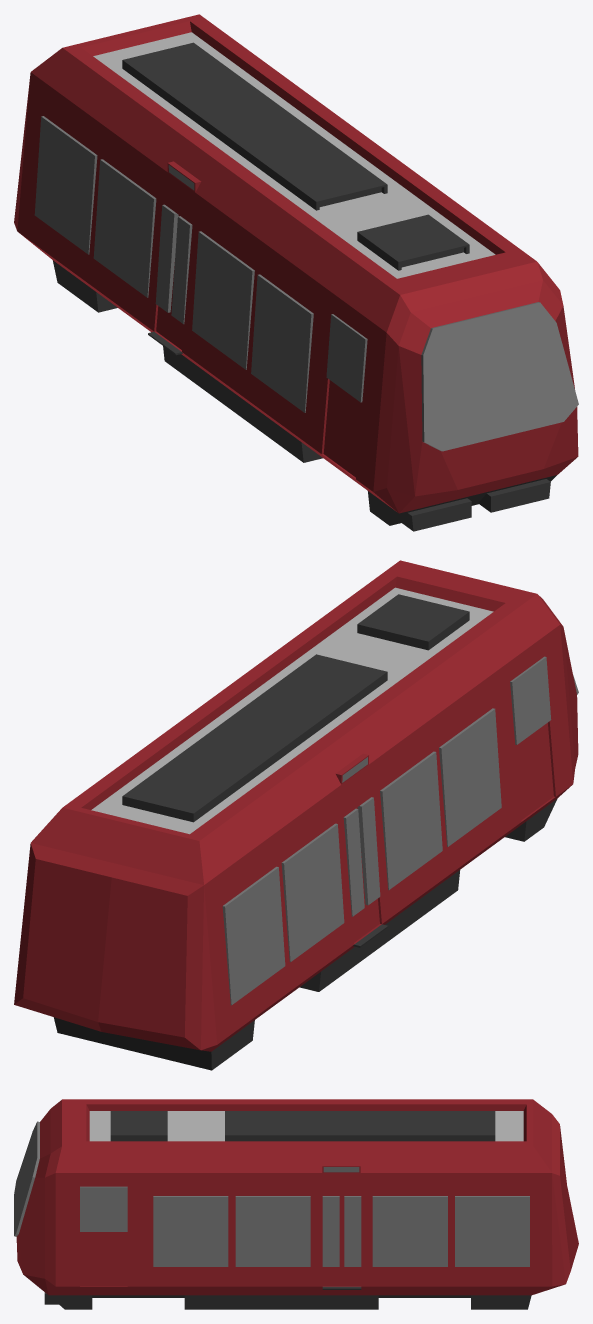
Rendered from Train.glb.
The picture shows the model from 3 angles, top to bottom: view 1: azimuth 30°, elevation 25°; view 2: azimuth 150°, elevation 25°; view 3: azimuth 270°, elevation 25°; orthographic projection. The views are drawn at different scales.
Visible parts, largest first — view 1: Train; view 2: Train; view 3: Train.
Boxes of the visible parts, bbox=[...] form: Train: bbox=[14, 14, 578, 531]; Train: bbox=[14, 560, 578, 1070]; Train: bbox=[14, 1099, 578, 1309].
Bounding box in the file's own units: 2.13 × 2.2 × 7.02.
